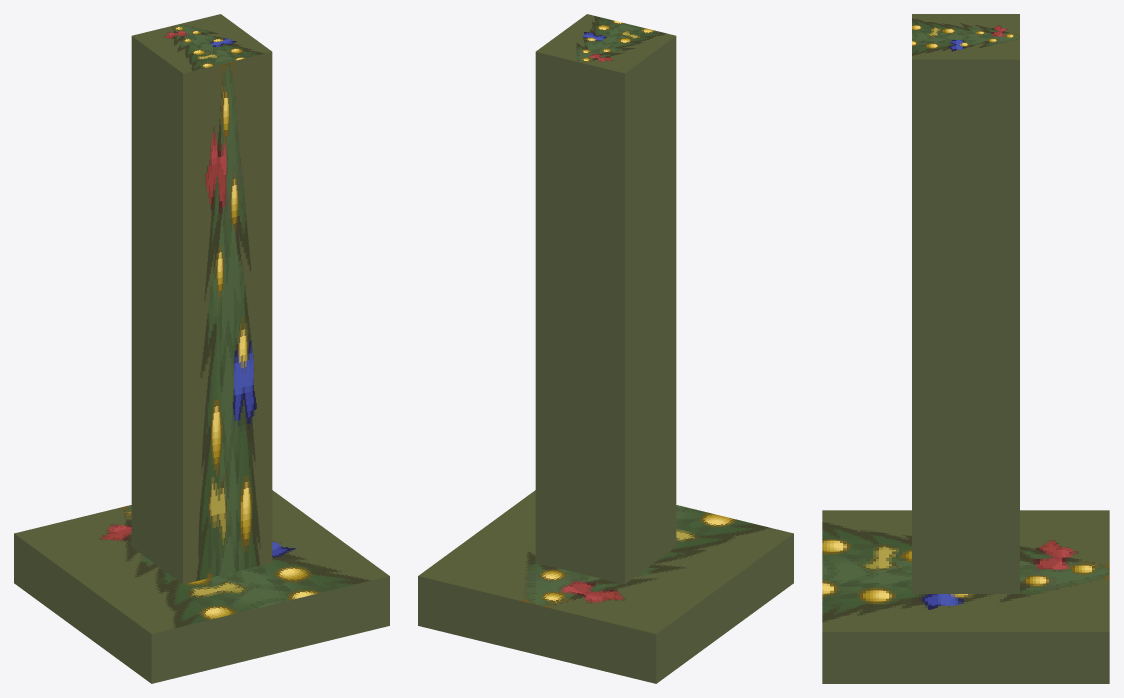
The model's file is Building_ChristmasTree.glb.
The picture shows the model from 3 angles, left to right: view 1: azimuth 30°, elevation 25°; view 2: azimuth 150°, elevation 25°; view 3: azimuth 270°, elevation 25°; orthographic projection. The views are drawn at different scales.
Parts seen in each view (by area): view 1: ChristmasTree; view 2: ChristmasTree; view 3: ChristmasTree.
Boxes of the visible parts, x1,y1,x2,y2 form: ChristmasTree: (14, 14, 389, 683); ChristmasTree: (418, 14, 793, 683); ChristmasTree: (822, 14, 1109, 683).
Size of the model in its own units: 0.8 by 1.8 by 0.8.
1 material, 1 textured.
